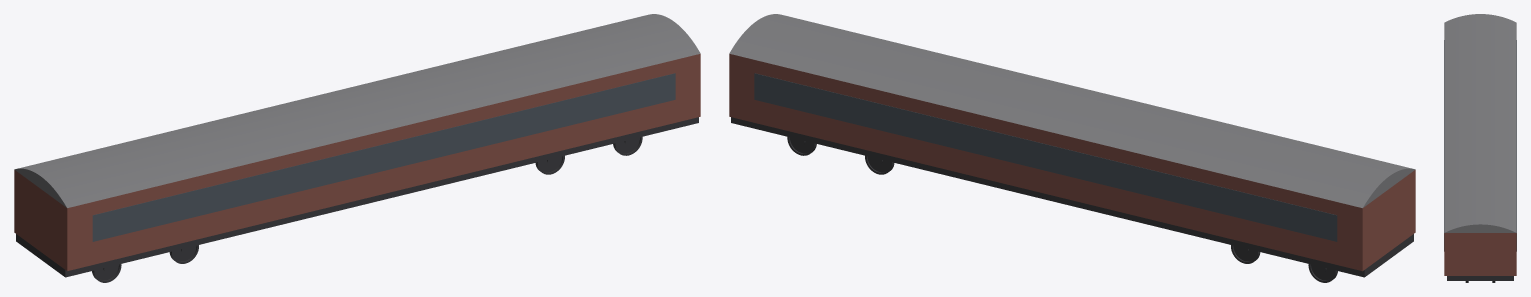
The model's file is kyoto_coach.glb.
3 renders of one model, left to right at view 1: azimuth 30°, elevation 25°; view 2: azimuth 150°, elevation 25°; view 3: azimuth 270°, elevation 25°, orthographic. The views are drawn at different scales.
Parts seen in each view (by area): view 1: roof, body, window_band_r, underframe; view 2: roof, body, window_band_l, underframe; view 3: roof, body, underframe, window_band_l, window_band_r.
Part boxes in pixels (x1,y1,x2,y2): roof: [14, 14, 700, 208]; body: [14, 54, 700, 271]; window_band_r: [92, 73, 675, 241]; underframe: [16, 117, 698, 277]; roof: [729, 14, 1415, 208]; body: [729, 54, 1415, 271]; window_band_l: [754, 73, 1337, 241]; underframe: [731, 117, 1413, 277]; roof: [1444, 14, 1516, 232]; body: [1444, 233, 1516, 275]; underframe: [1447, 276, 1513, 280]; window_band_l: [1516, 40, 1516, 251]; window_band_r: [1444, 40, 1444, 251].
Size of the model in its own units: 20 by 3.38 by 2.92.
